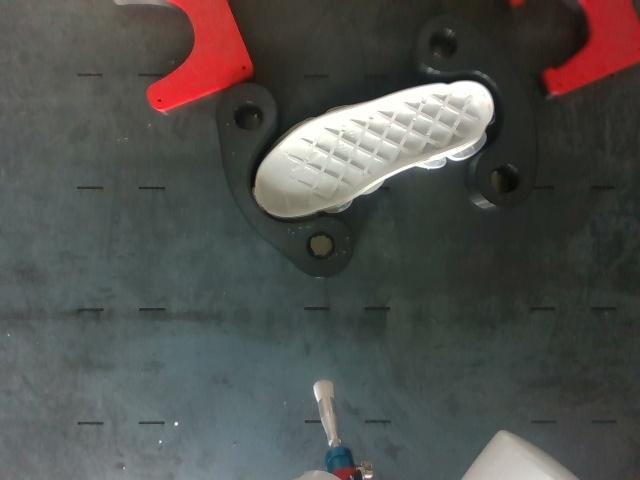shoes: (256, 82, 494, 218)
